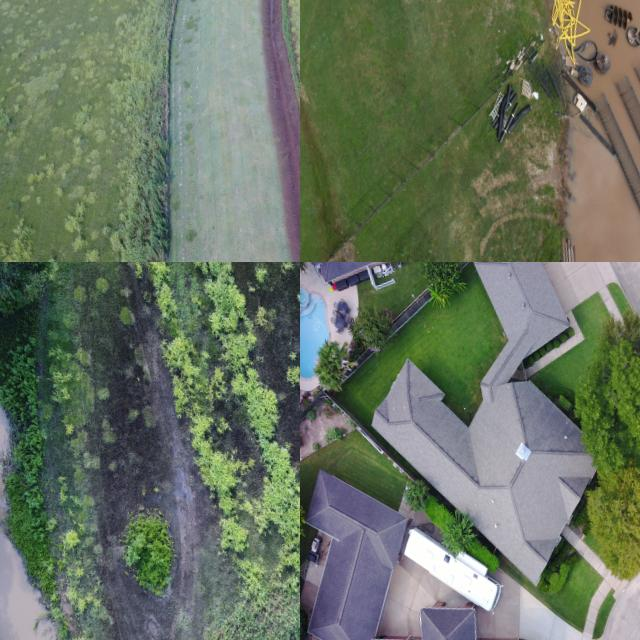fire: (567, 120, 640, 262)
